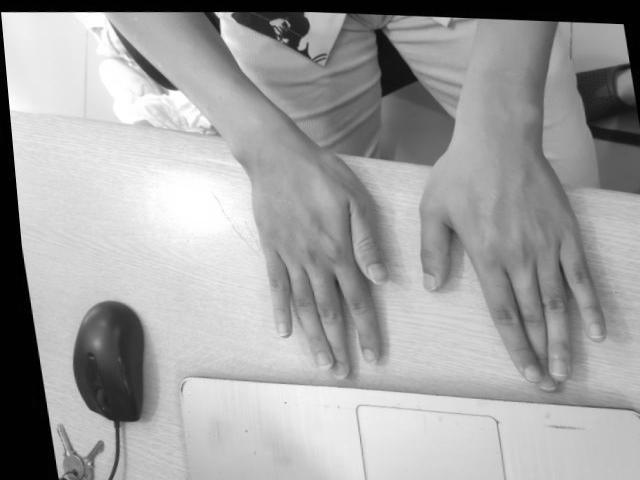not-gloved: (419, 146, 608, 392), (248, 160, 392, 381)
